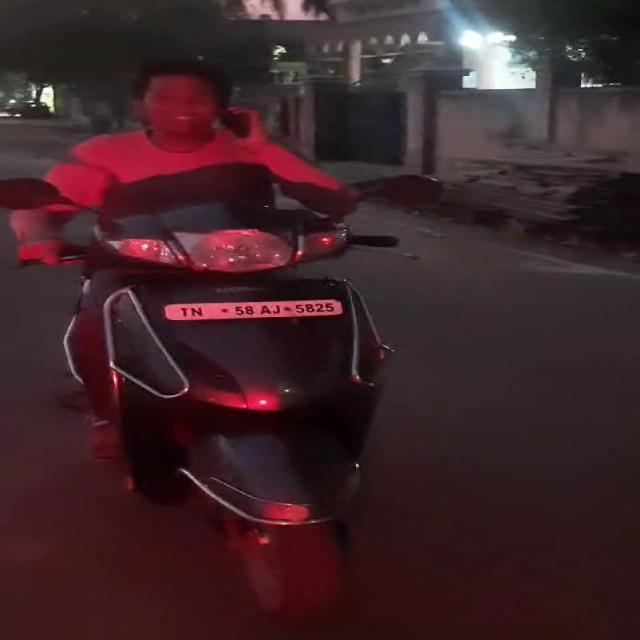USING_MOBILE: (219, 101, 358, 210)
